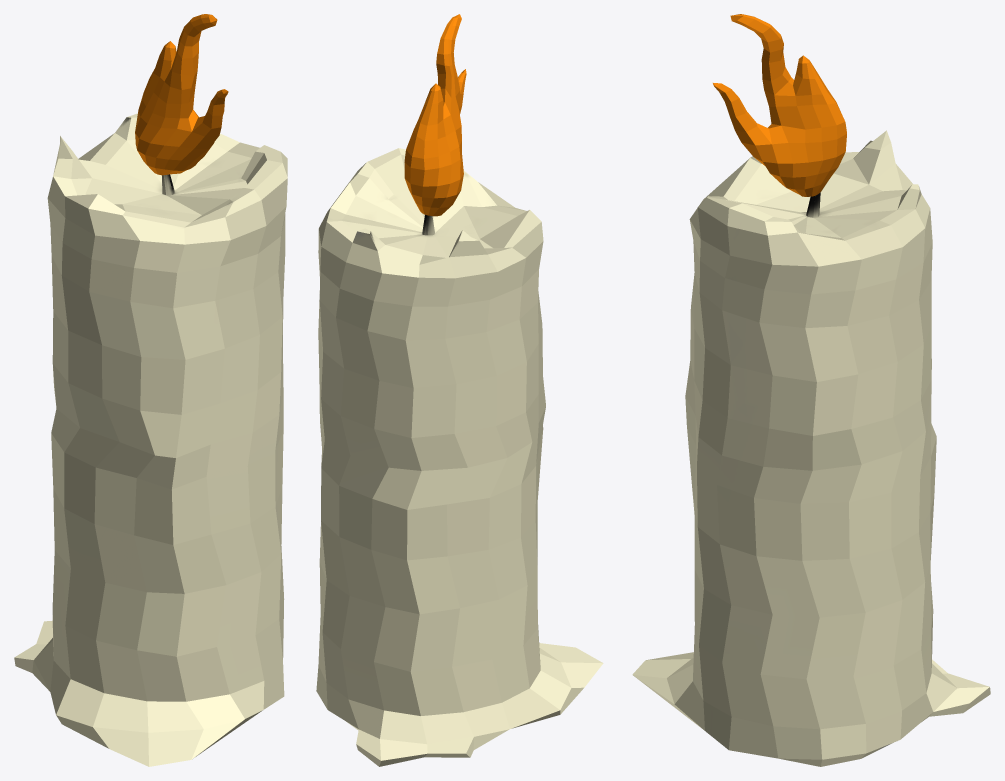
Rendered from vela.fbx.
The picture shows the model from 3 angles, left to right: view 1: azimuth 30°, elevation 25°; view 2: azimuth 150°, elevation 25°; view 3: azimuth 270°, elevation 25°; orthographic projection. The views are drawn at different scales.
Parts seen in each view (by area): view 1: VelaLp, FlamaLp; view 2: VelaLp, FlamaLp; view 3: VelaLp, FlamaLp.
Part boxes in pixels (x1,y1,x2,y2): VelaLp: (14,113,287,766); FlamaLp: (135,14,228,175); VelaLp: (316,148,603,766); FlamaLp: (404,14,466,216); VelaLp: (632,130,990,766); FlamaLp: (713,14,846,196).
Bounding box in the file's own units: 7.14 × 20.17 × 9.3.
